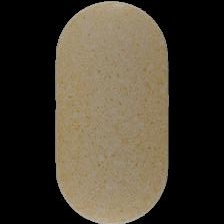13668-159: (0, 0, 224, 224)
